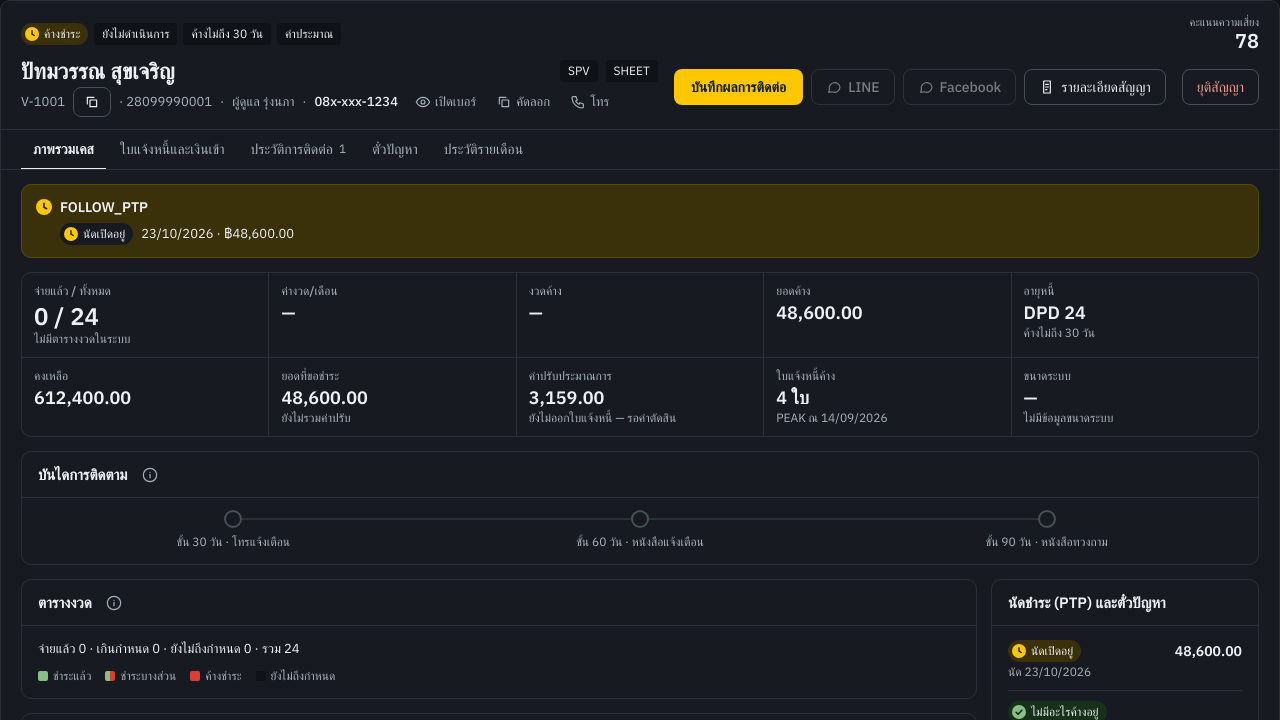
Test: complete payment evidence in the case › shows canonical evidence in the invoice tab without adding receipt money to served balances
The width and height of the screenshot is (1280, 720).
Click the tab "ใบแจ้งหนี้และเงินเข้า": coordinates (172, 150) [108,130,236,170]
(page scrolled)
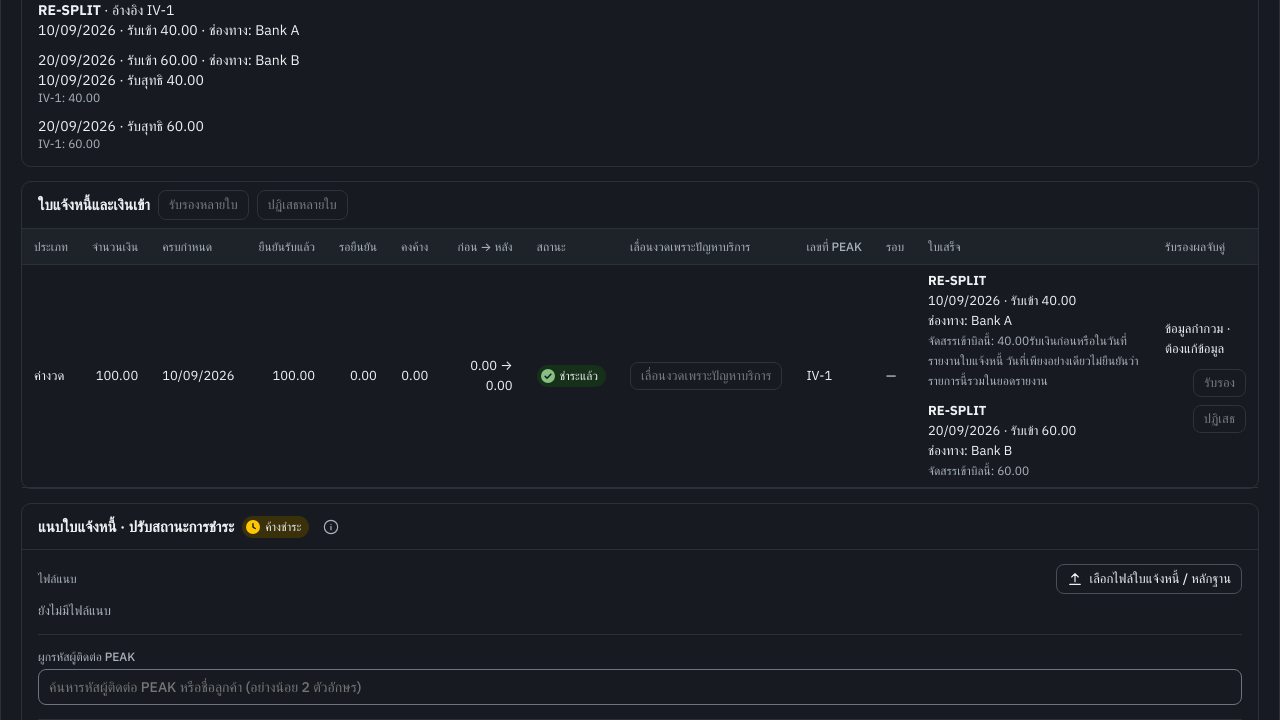
Now the text "RE-SPLIT" is shown 2 times, box [928,272,986,289]; [928,402,986,419]
Now the text "รับเงินก่อนหรือในวันที่รายงานใบแจ้งหนี้ วันที่เพียงอย่างเดียวไม่ยืนยันว่ารายการนี้รวมในยอดรายงาน" is shown, box [928,333,1139,388]
Now the text "100.00" is shown 2 times, box [80,265,150,488]; [247,265,327,488]
